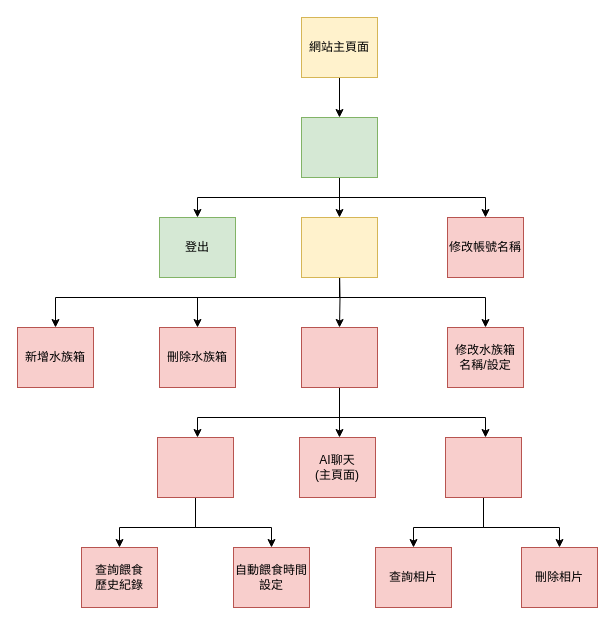
Image size: 615x625. Some labels were removed from this diagram. The centre of each missing label's shape, as x and y in pixels:
主動餵食頁面: the point at 195,467
即時拍照: the point at 483,467
水族箱 管理頁面: the point at 339,247
登入: the point at 339,147
選擇水族箱 管理: the point at 339,357
